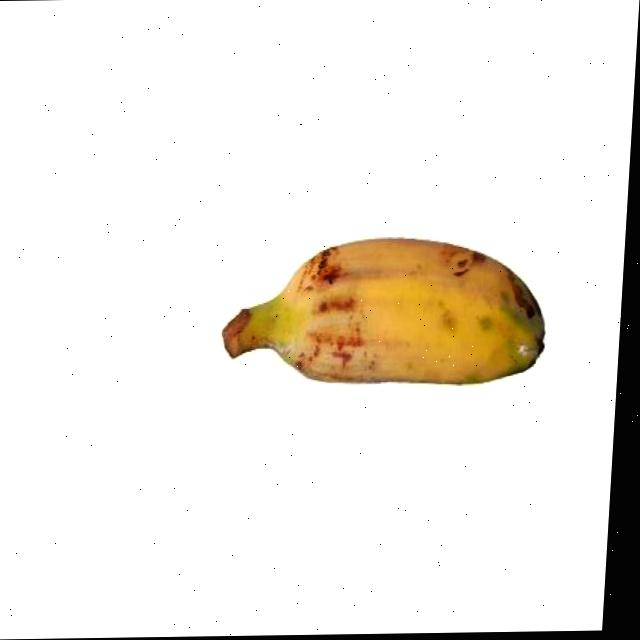banana: (221, 234, 550, 400)
